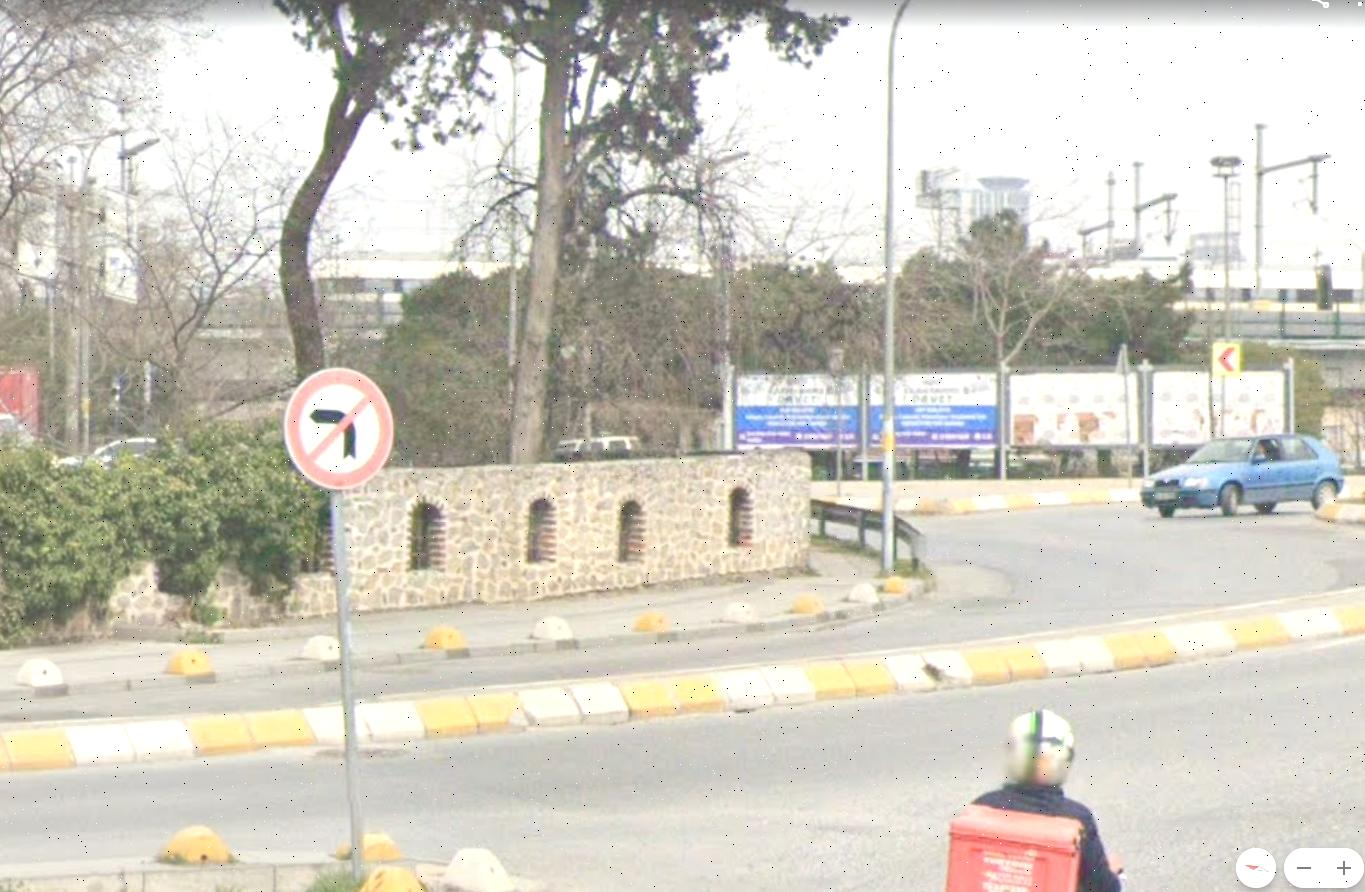leftturnsareforbidden: (291, 369, 396, 490)
